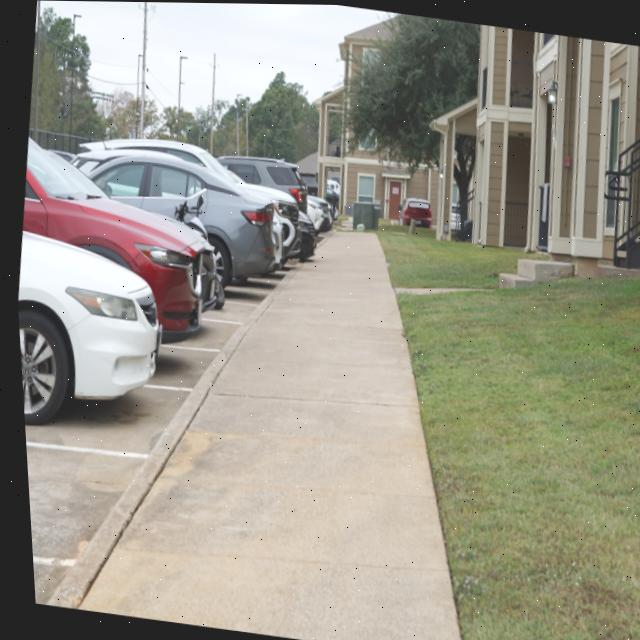Automobile: (14, 137, 331, 424), (393, 197, 428, 226)
Road: (20, 274, 277, 602)
Sidewalk: (40, 231, 453, 640)
